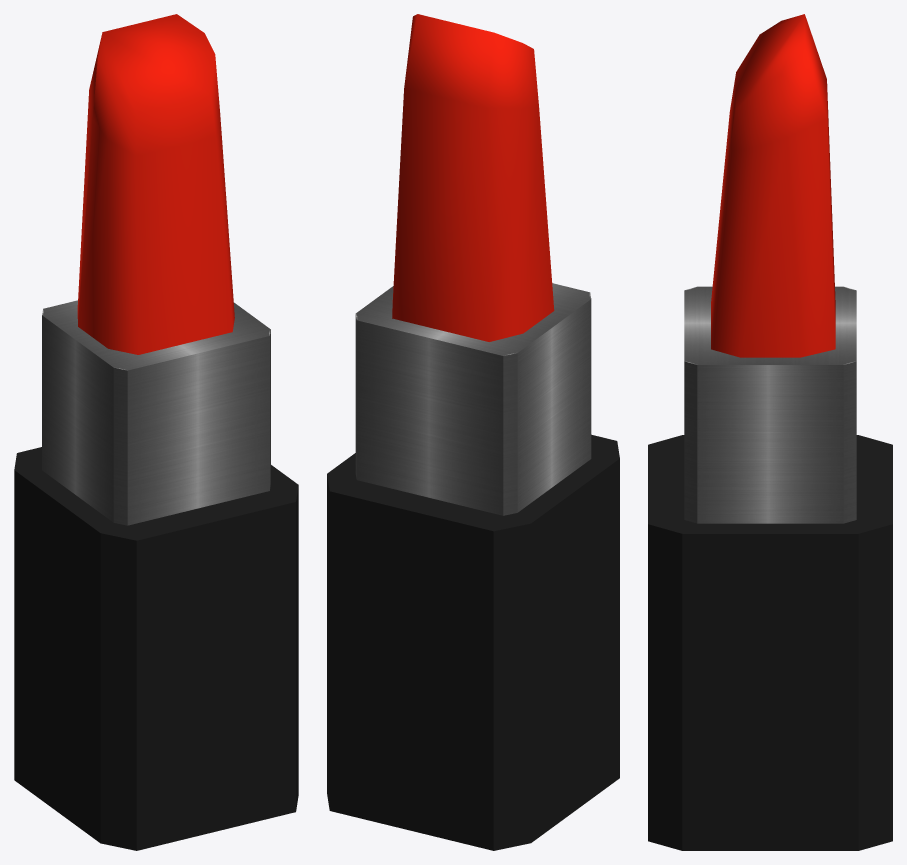
File: Lipstick_A.FBX
The picture shows the model from 3 angles, left to right: view 1: azimuth 30°, elevation 25°; view 2: azimuth 150°, elevation 25°; view 3: azimuth 270°, elevation 25°; orthographic projection. The views are drawn at different scales.
Parts seen in each view (by area): view 1: Lipstick; view 2: Lipstick; view 3: Lipstick.
Boxes of the visible parts, bbox=[...] form: Lipstick: bbox=[14, 14, 298, 850]; Lipstick: bbox=[327, 14, 619, 850]; Lipstick: bbox=[648, 14, 892, 850].
Bounding box in the file's own units: 13.37 × 48.5 × 14.
